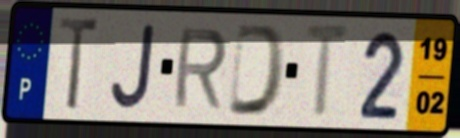2: (353, 23, 411, 124)
D: (225, 21, 289, 119)
J: (109, 21, 159, 112)
R: (170, 27, 231, 112)
T: (301, 21, 356, 123), (55, 15, 103, 114)
